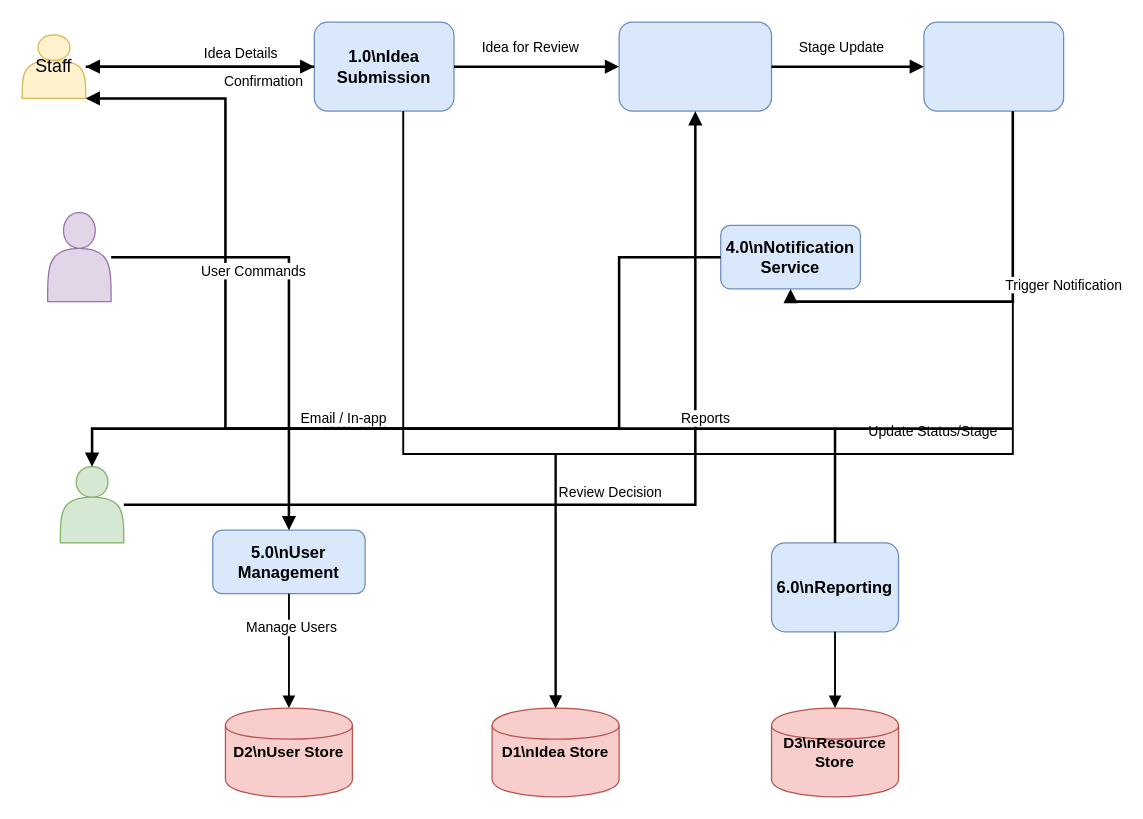
This 1143x819 diagram has some shape labels left out. Here are the shapes that lost their labels. From the top down, the centre of each, then its label:
(x=695, y=66): 2.0\nIdea Review
(x=993, y=66): 3.0\nWorkflow Management
(x=78, y=256): IT Admin
(x=91, y=504): Innovation\nTeam
